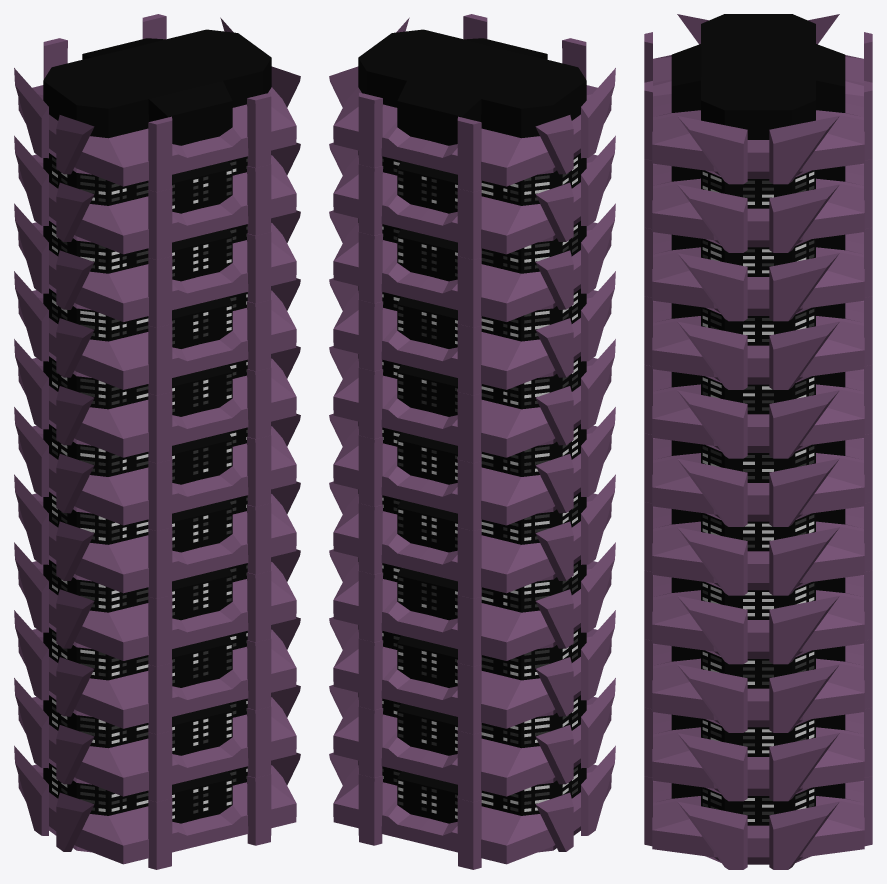
Rendered from building_025.glb.
3 views of the same model, side by side, from view 1: azimuth 30°, elevation 25°; view 2: azimuth 150°, elevation 25°; view 3: azimuth 270°, elevation 25° (orthographic).
Parts seen in each view (by area): view 1: building.025; view 2: building.025; view 3: building.025.
Boxes of the visible parts, bbox=[...] form: building.025: bbox=[14, 14, 300, 869]; building.025: bbox=[329, 14, 615, 869]; building.025: bbox=[644, 14, 872, 869].
Bounding box in the file's own units: 3.71 × 12.16 × 3.34.
